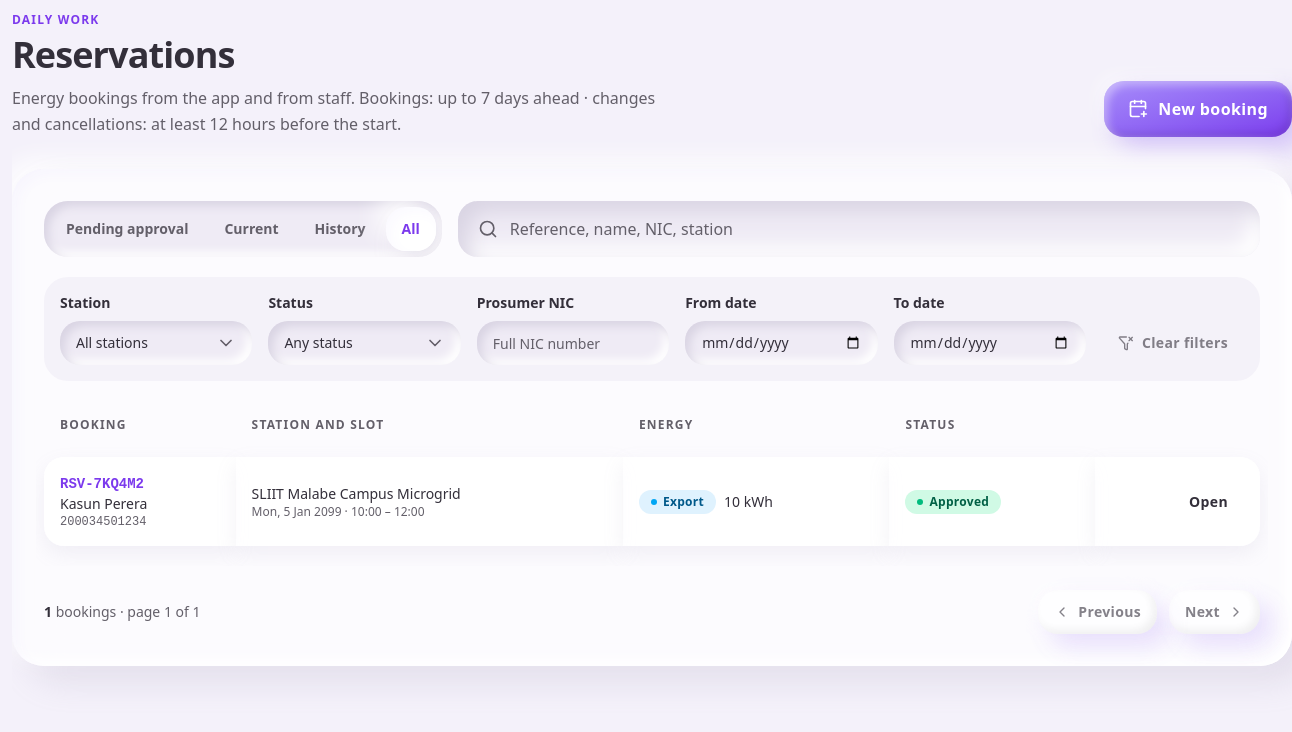
Test: ReservationsPage › sends the search and filters, and clears them again
expect the link "RSV-7KQ4M2" is shown: met, box [60, 476, 144, 492]
Select "Galle Fort Microgrid" in the dropdown labelled "Station": (156, 343) [60, 321, 252, 365]
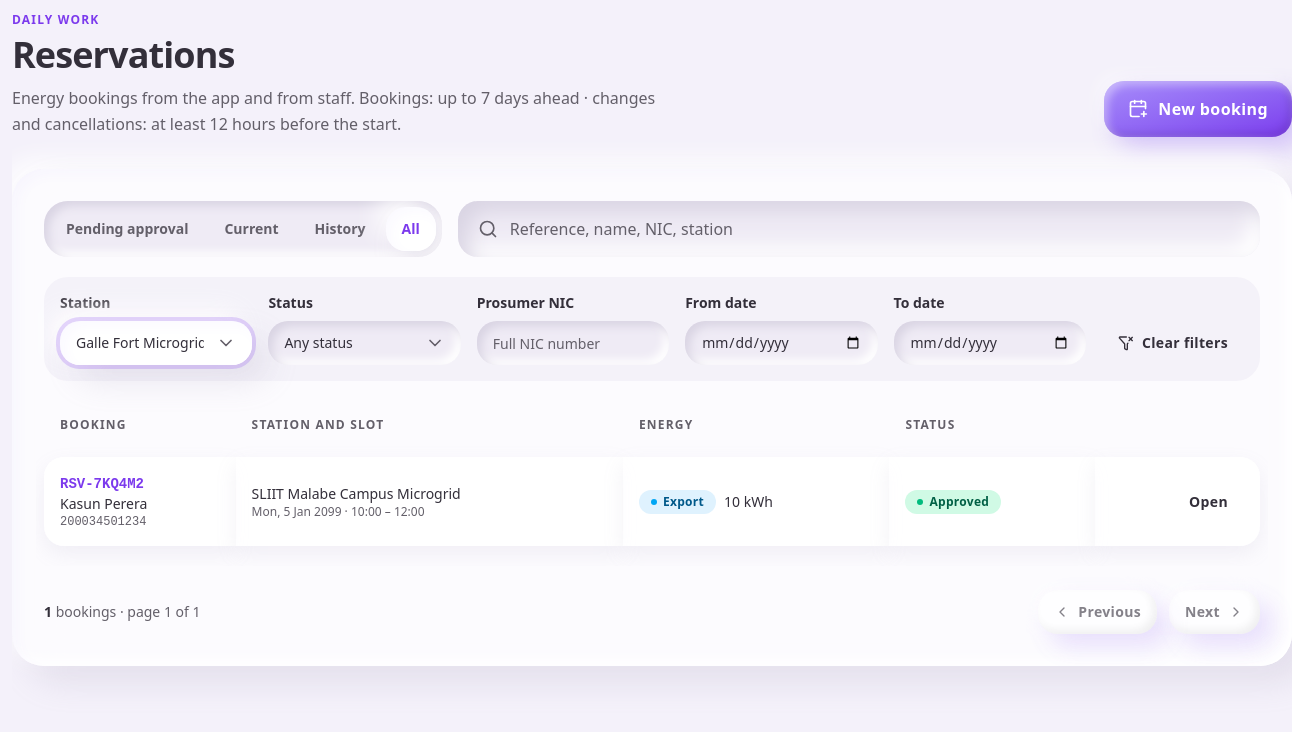
Select "Rejected" in the dropdown labelled "Status": (365, 343) [268, 321, 461, 365]
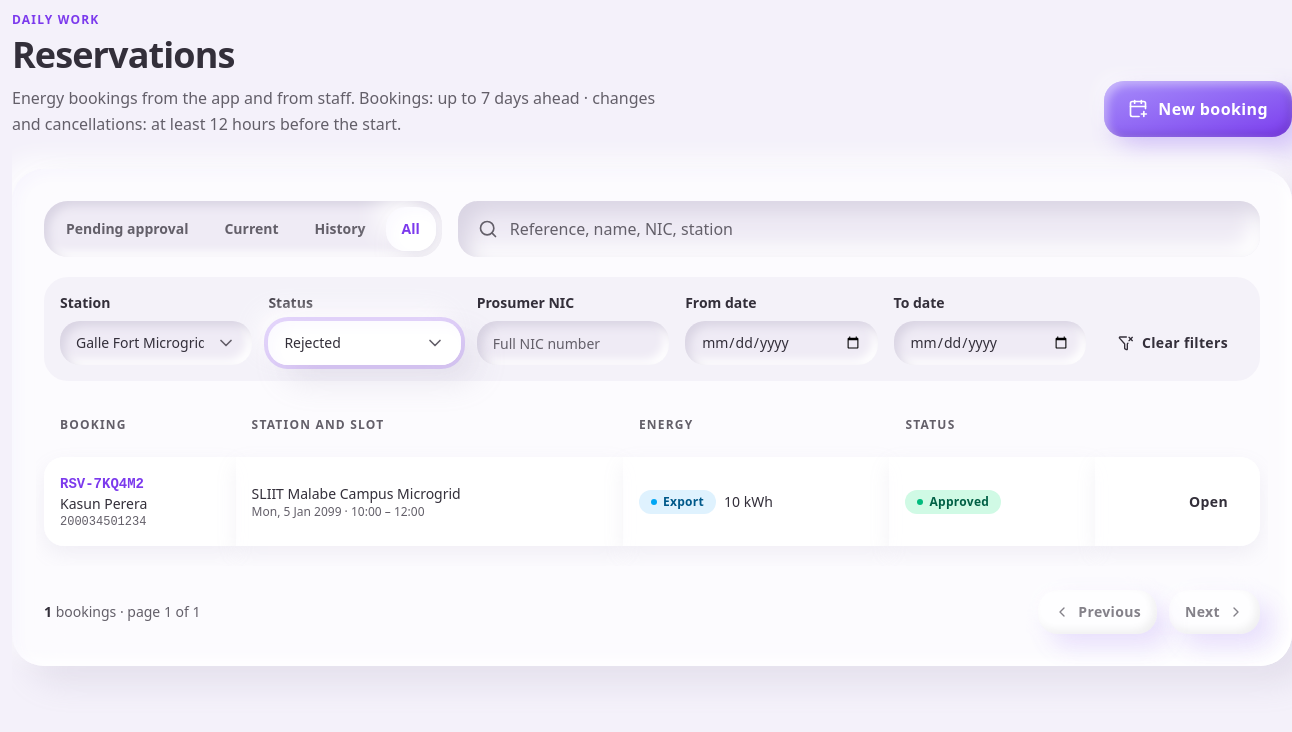
In the field labelled "Prosumer NIC": (573, 343) [477, 321, 669, 365], type "995671234V"
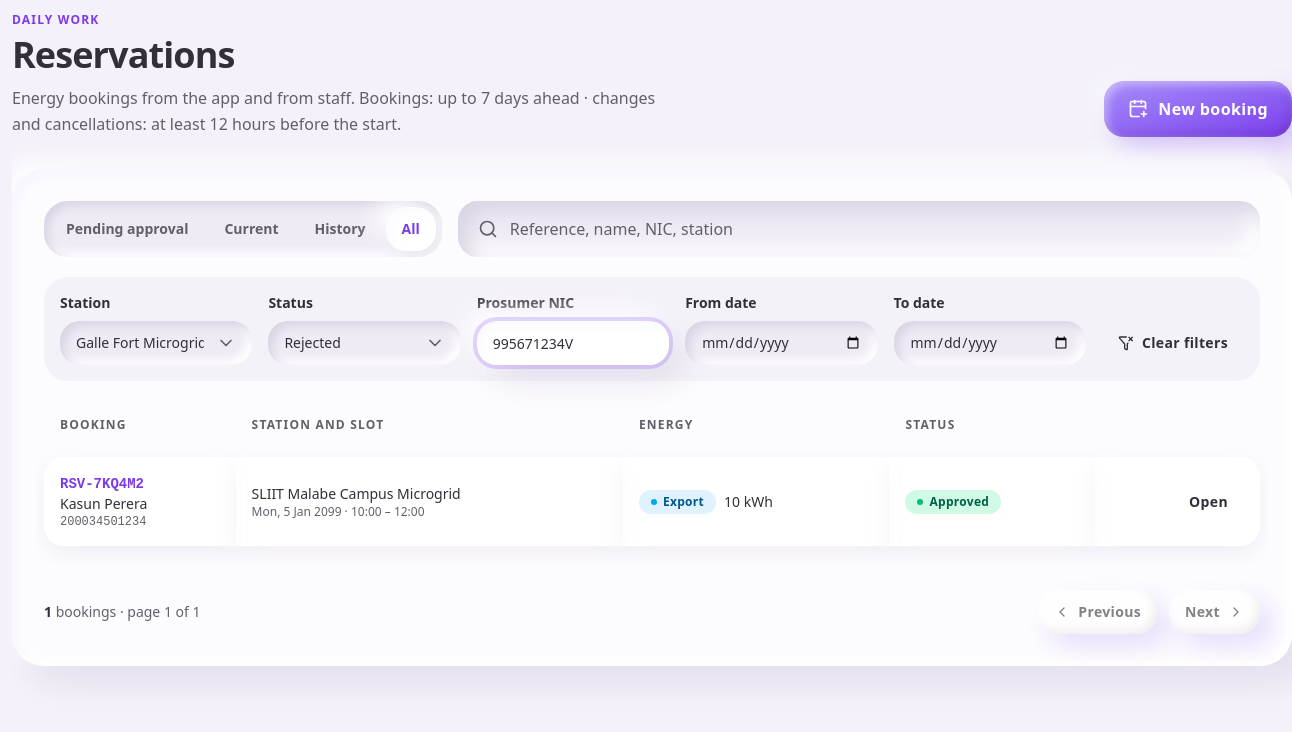
In the date field labelled "From date": (781, 343) [685, 321, 878, 365], type "2099-01-01"
In the date field labelled "To date": (990, 343) [894, 321, 1086, 365], type "2099-01-07"
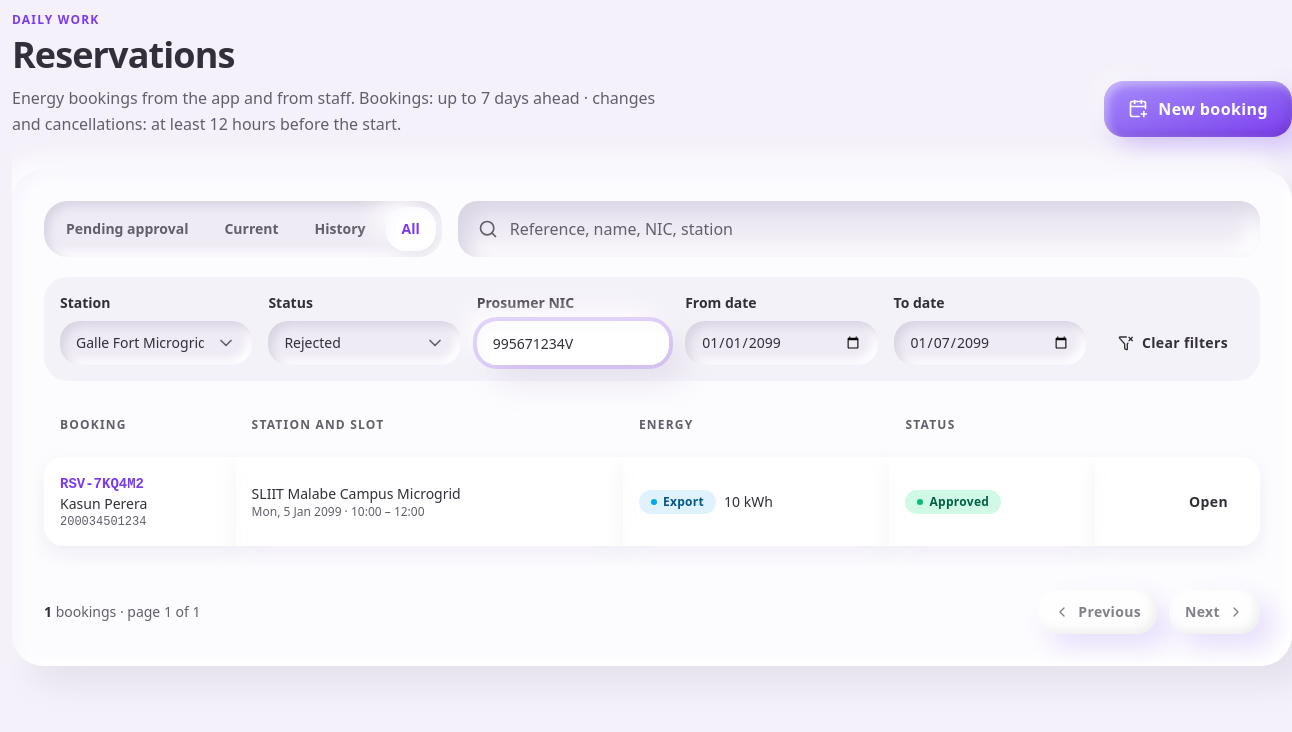
In the search field named "Search bookings": (859, 229) [458, 201, 1260, 257], type "RSV-DEMO"
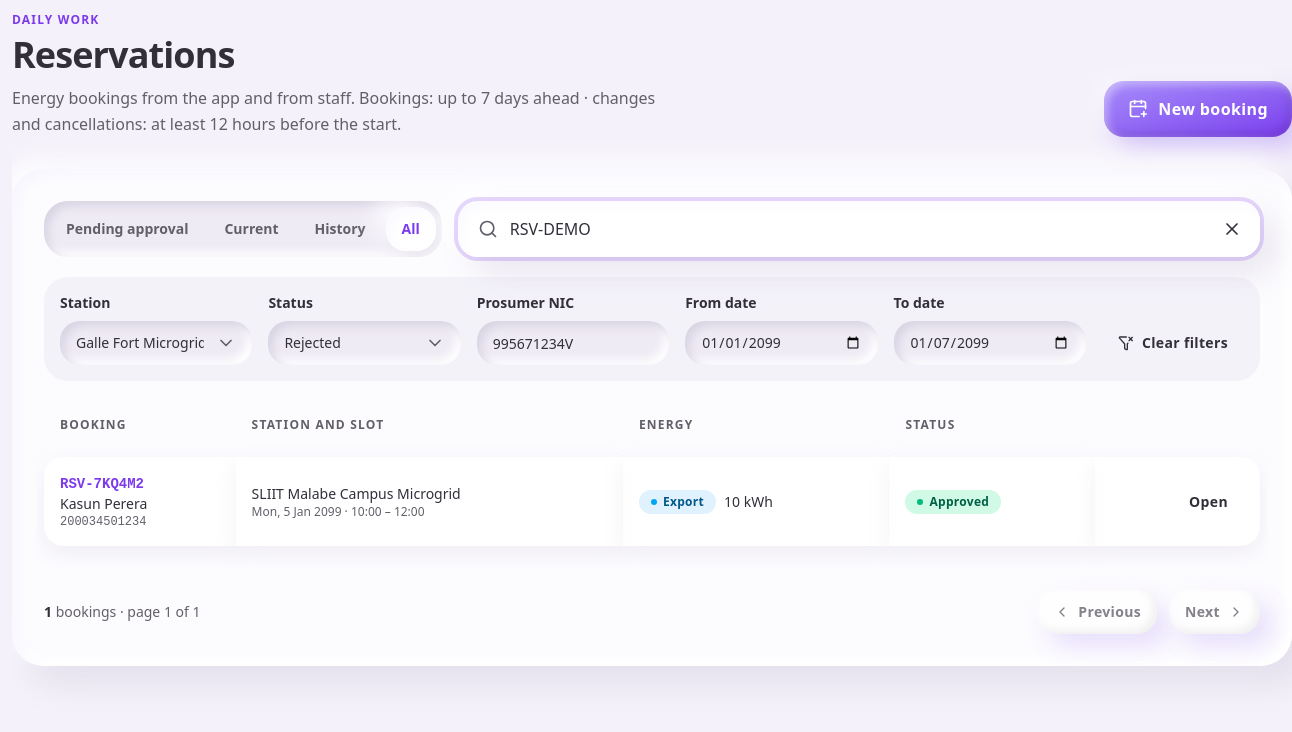
Click the button "Clear filters": (1173, 343) [1102, 321, 1244, 365]
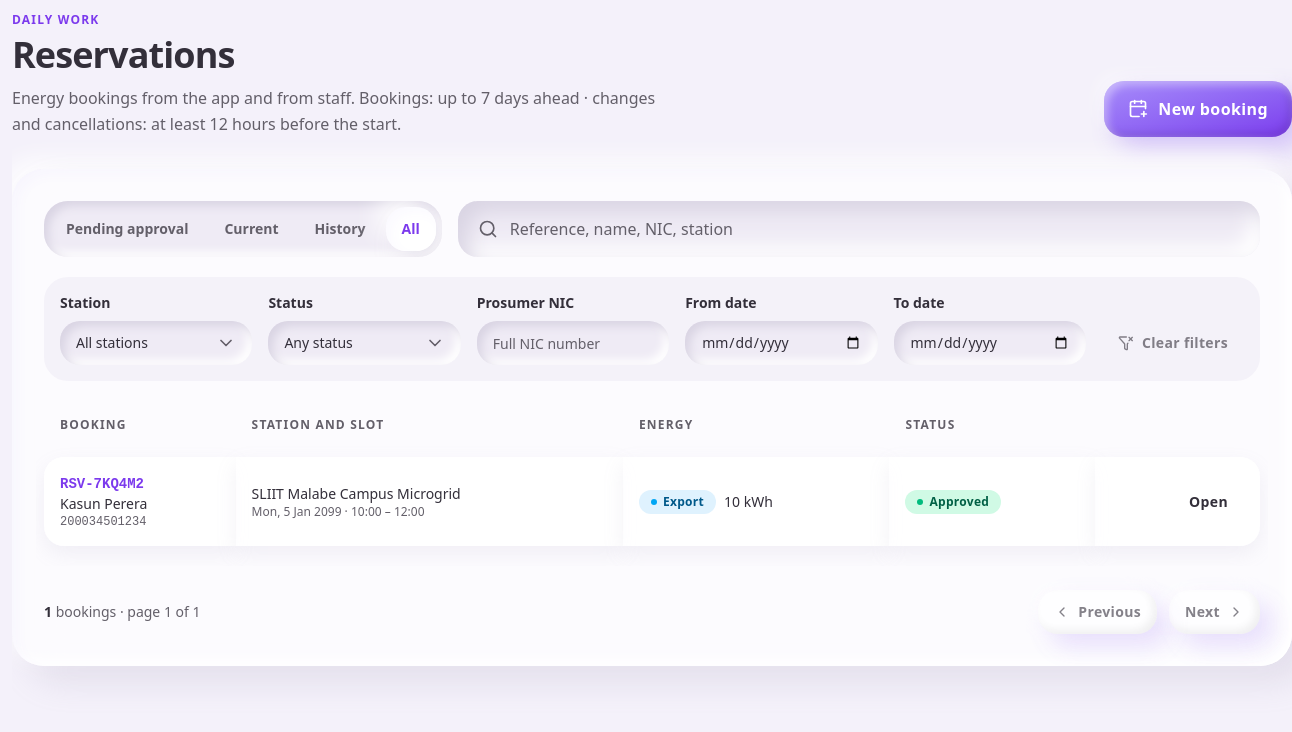
expect the search field named "Search bookings" is empty: met, box [458, 201, 1260, 257]
